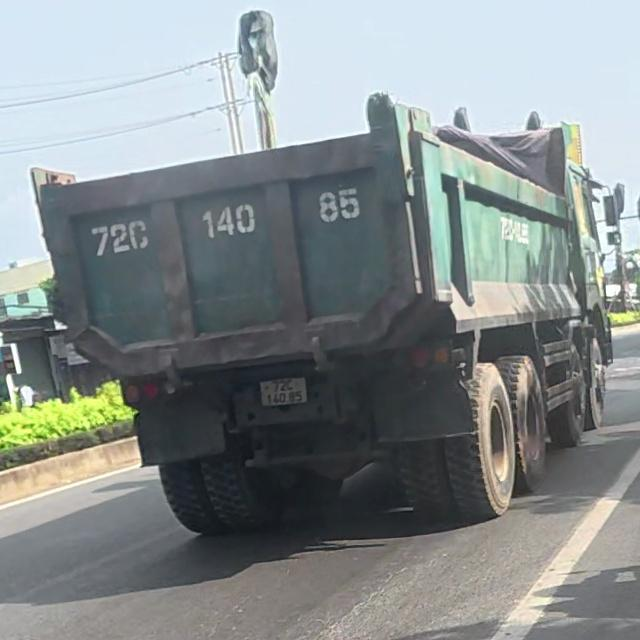license-plate: (259, 377, 308, 406)
